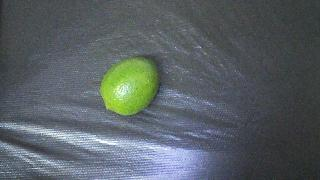LOCAL: (100, 57, 160, 116)
